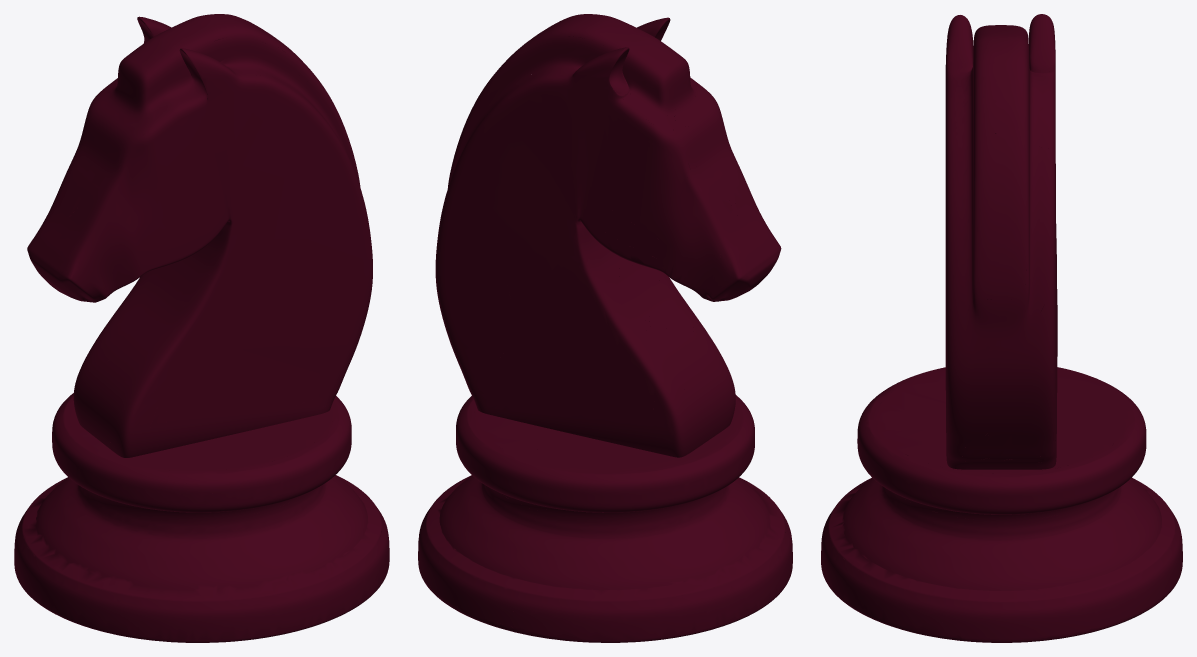
The model's file is gercek3_n_b.glb.
3 views of the same model, side by side, from view 1: azimuth 30°, elevation 25°; view 2: azimuth 150°, elevation 25°; view 3: azimuth 270°, elevation 25° (orthographic). The views are drawn at different scales.
Visible parts, largest first — view 1: Object_7, Object_8, Object_9; view 2: Object_8, Object_7, Object_9; view 3: Object_8, Object_9, Object_7.
Part boxes in pixels (x1=…): Object_7: x1=27, y1=21, x2=372, y2=448; Object_8: x1=22, y1=93, x2=381, y2=601; Object_9: x1=14, y1=14, x2=389, y2=642; Object_8: x1=418, y1=22, x2=785, y2=626; Object_7: x1=435, y1=17, x2=781, y2=426; Object_9: x1=418, y1=14, x2=792, y2=642; Object_8: x1=828, y1=264, x2=1182, y2=638; Object_9: x1=821, y1=14, x2=1182, y2=642; Object_7: x1=945, y1=15, x2=1057, y2=469.
Size of the model in its own units: 1.43 by 2.28 by 1.4.
